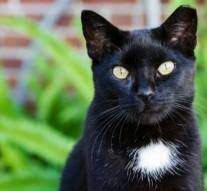cat: (61, 2, 203, 191)
